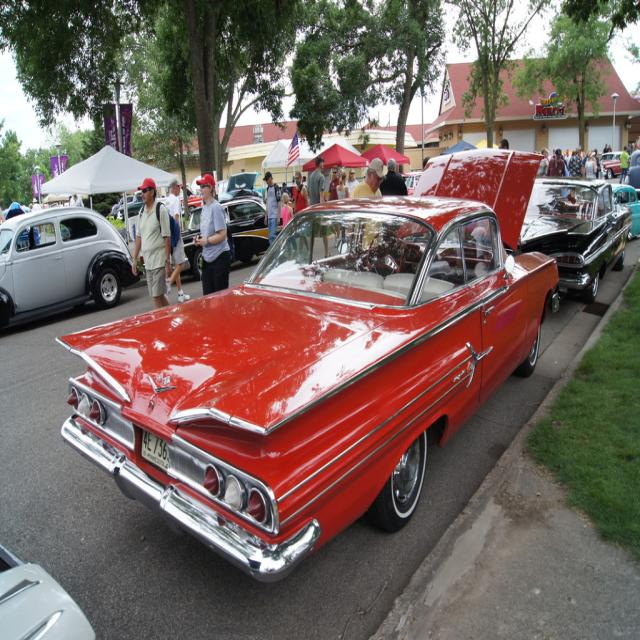car: (52, 200, 565, 600)
